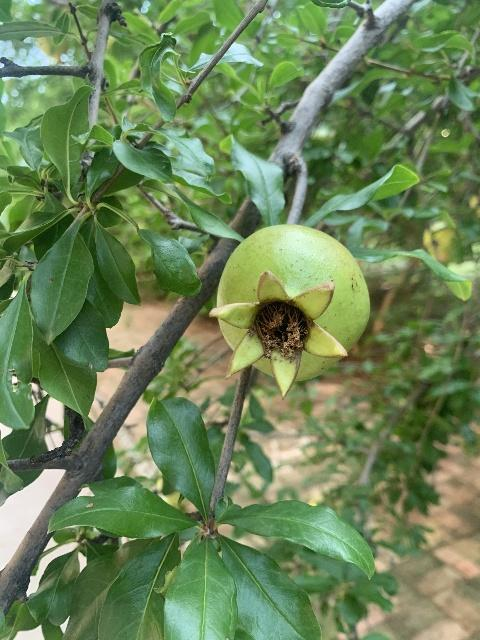mid-growth: (207, 223, 366, 397)
